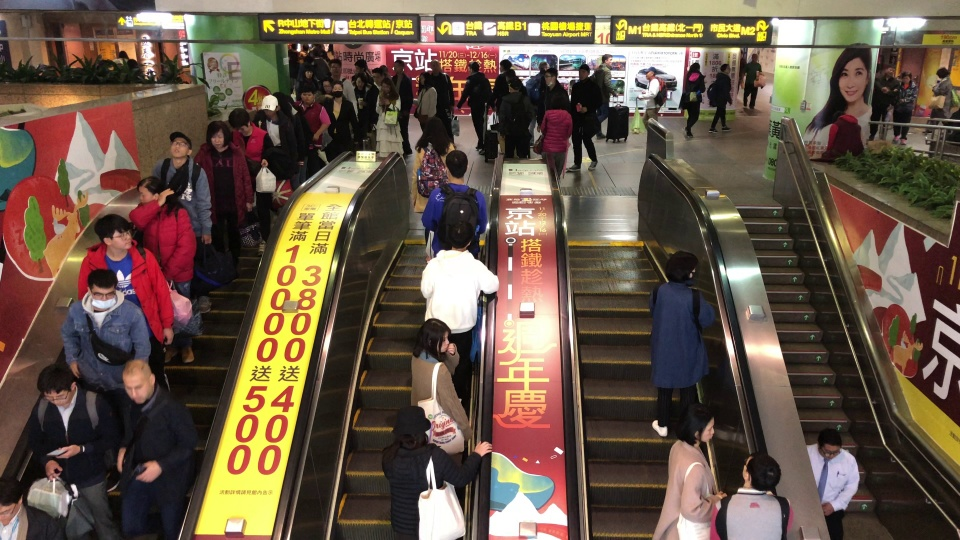person_head: (740, 450, 783, 491), (119, 359, 156, 405), (36, 362, 75, 404), (391, 405, 430, 445), (92, 213, 133, 251), (682, 401, 717, 444), (84, 267, 119, 308), (663, 248, 698, 283), (421, 318, 452, 355), (815, 426, 842, 458), (444, 148, 469, 179), (449, 219, 474, 248), (136, 174, 161, 202), (207, 119, 230, 148), (227, 106, 250, 134), (169, 132, 192, 157), (422, 115, 446, 137), (261, 94, 278, 115), (547, 90, 565, 109), (298, 81, 314, 102), (543, 66, 558, 87), (272, 92, 287, 110), (507, 77, 522, 93), (329, 58, 342, 76), (417, 70, 431, 86), (577, 62, 590, 79), (643, 65, 657, 80), (331, 80, 344, 96), (354, 74, 367, 89), (467, 59, 480, 74), (601, 51, 614, 66), (379, 77, 393, 90), (429, 58, 442, 72), (371, 68, 382, 84), (302, 64, 314, 78), (393, 58, 405, 72), (718, 61, 732, 73), (936, 65, 950, 77), (353, 58, 364, 73), (321, 76, 332, 91), (498, 57, 511, 69), (538, 59, 550, 72), (900, 69, 911, 83), (874, 63, 883, 78), (505, 67, 516, 79), (689, 61, 701, 72), (127, 58, 138, 69), (311, 46, 320, 57), (886, 64, 894, 75), (750, 52, 758, 61), (119, 50, 127, 58), (290, 43, 297, 51), (302, 43, 307, 51), (740, 50, 743, 57)
person_vbox: (58, 266, 152, 495), (75, 213, 175, 393), (108, 357, 197, 539), (27, 362, 117, 540), (379, 403, 492, 540), (646, 249, 716, 438), (128, 174, 197, 363), (417, 218, 499, 368), (151, 131, 213, 313), (648, 400, 728, 540), (191, 119, 254, 281), (409, 317, 475, 467), (418, 148, 487, 259), (709, 449, 793, 540), (227, 105, 272, 256), (410, 115, 454, 263), (805, 426, 859, 539), (454, 59, 497, 152), (564, 63, 601, 171), (252, 94, 297, 177), (293, 80, 330, 175), (271, 93, 307, 187), (537, 90, 573, 180), (374, 76, 408, 165), (499, 76, 534, 159), (324, 81, 361, 154), (534, 65, 569, 136), (921, 66, 955, 134), (524, 60, 550, 148), (391, 58, 414, 156), (594, 53, 619, 140), (891, 69, 918, 146), (635, 65, 667, 127), (681, 60, 706, 139), (329, 59, 359, 119), (708, 64, 734, 133), (413, 71, 438, 132), (430, 58, 455, 113), (742, 52, 763, 111), (869, 63, 884, 139), (354, 75, 368, 146), (492, 54, 512, 96), (310, 47, 329, 76), (881, 64, 899, 94), (736, 48, 746, 94), (111, 50, 127, 65)
